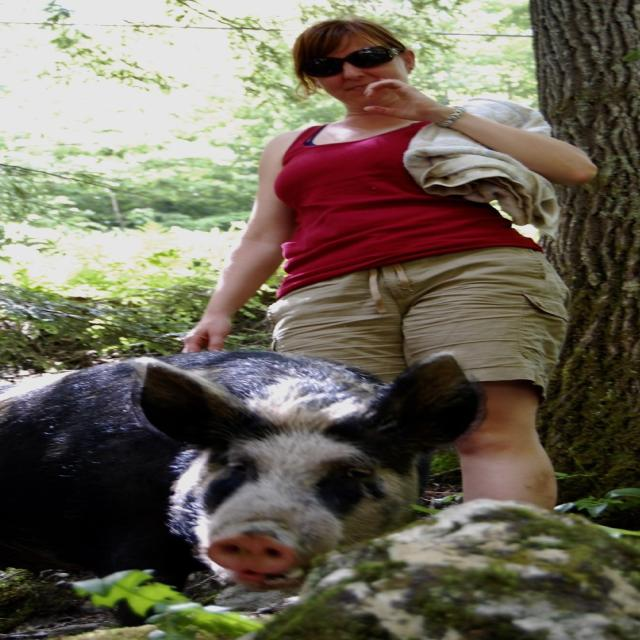pig: (0, 351, 484, 594)
